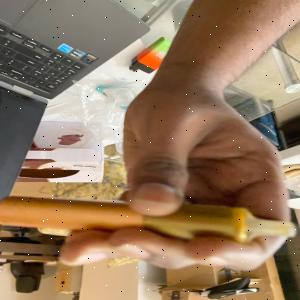Golden-E-Ciggirate: (0, 195, 300, 245)
